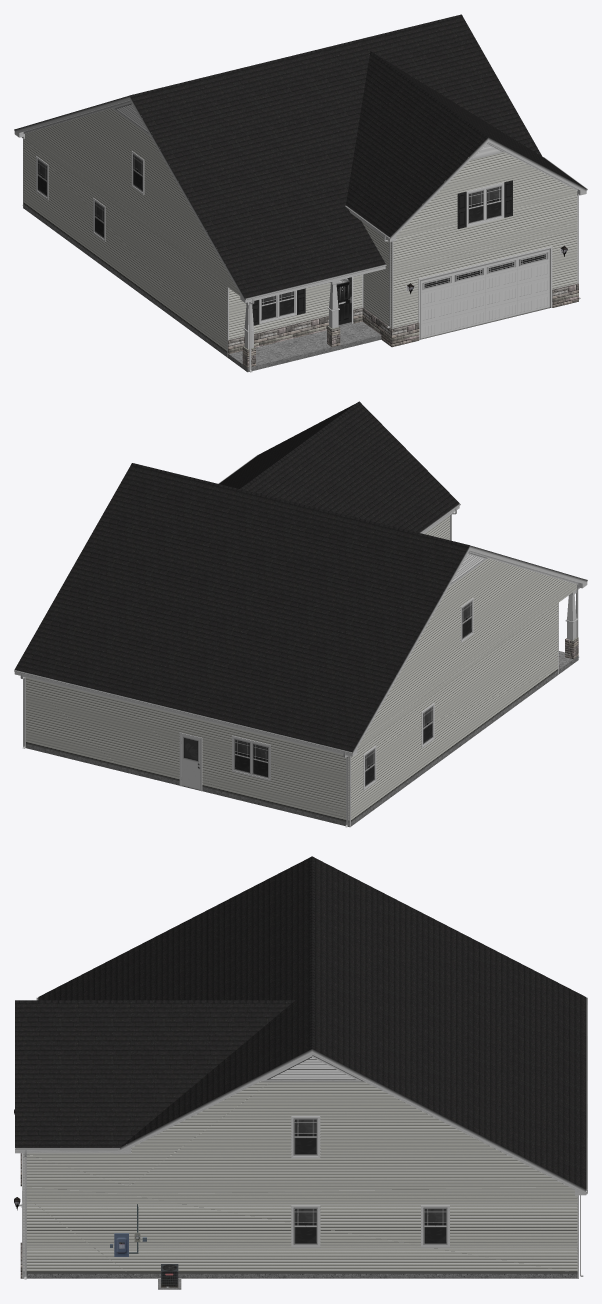
Rendered from house17_mirror1.fbx.
3 views of the same model, one above another, from view 1: azimuth 30°, elevation 25°; view 2: azimuth 150°, elevation 25°; view 3: azimuth 270°, elevation 25° (orthographic). The views are drawn at different scales.
Parts seen in each view (by area): view 1: house17_mirror1_LOD0; view 2: house17_mirror1_LOD0; view 3: house17_mirror1_LOD0.
Boxes of the visible parts, <box> form: house17_mirror1_LOD0: <box>14,14,587,372</box>; house17_mirror1_LOD0: <box>14,401,587,827</box>; house17_mirror1_LOD0: <box>14,856,587,1289</box>.
Size of what is drawn, in the model's own units: 4.09 by 2.22 by 4.95.
